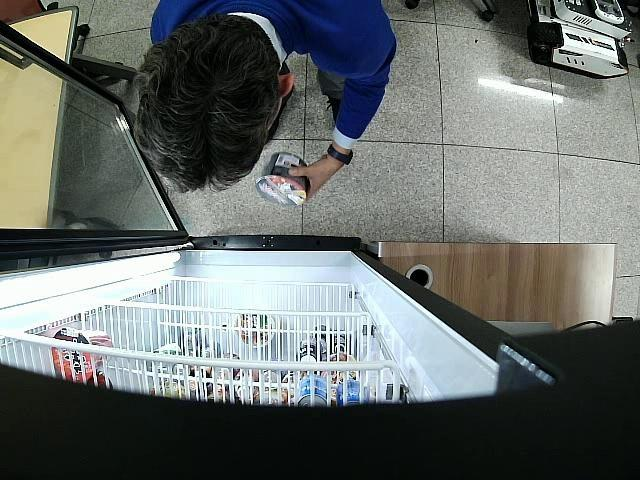07_buldak_L: (254, 152, 310, 206)
